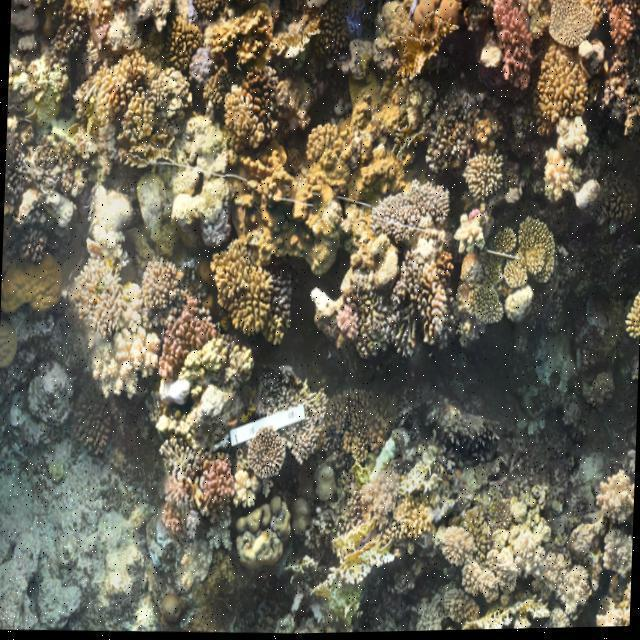Bleached Coral: (130, 121, 223, 256), (371, 176, 453, 248), (191, 43, 215, 92)
Healthy Coral: (176, 451, 265, 551), (481, 0, 548, 114), (204, 251, 299, 325), (536, 46, 613, 127), (159, 305, 198, 370)
